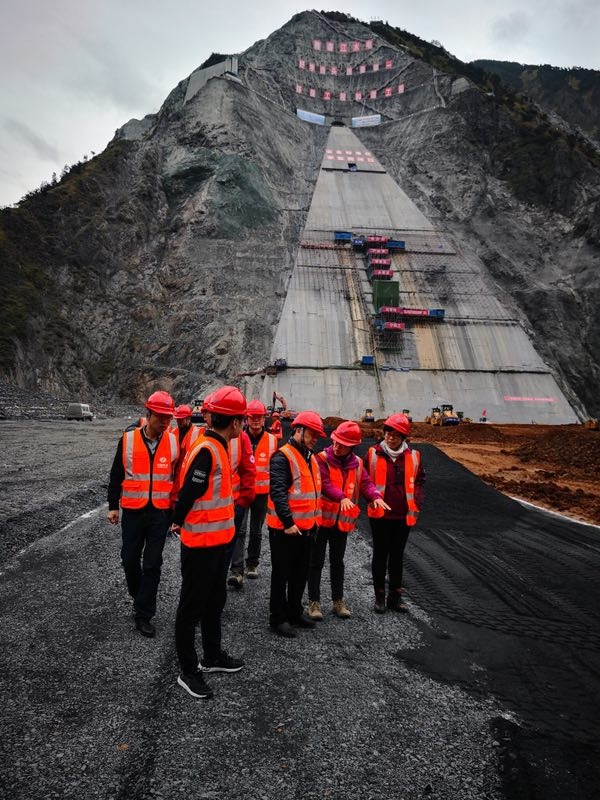red: (205, 386, 247, 438), (289, 407, 325, 450), (143, 390, 176, 432), (330, 418, 363, 455), (382, 412, 411, 448), (243, 398, 266, 432), (171, 402, 193, 429), (271, 412, 280, 420)
